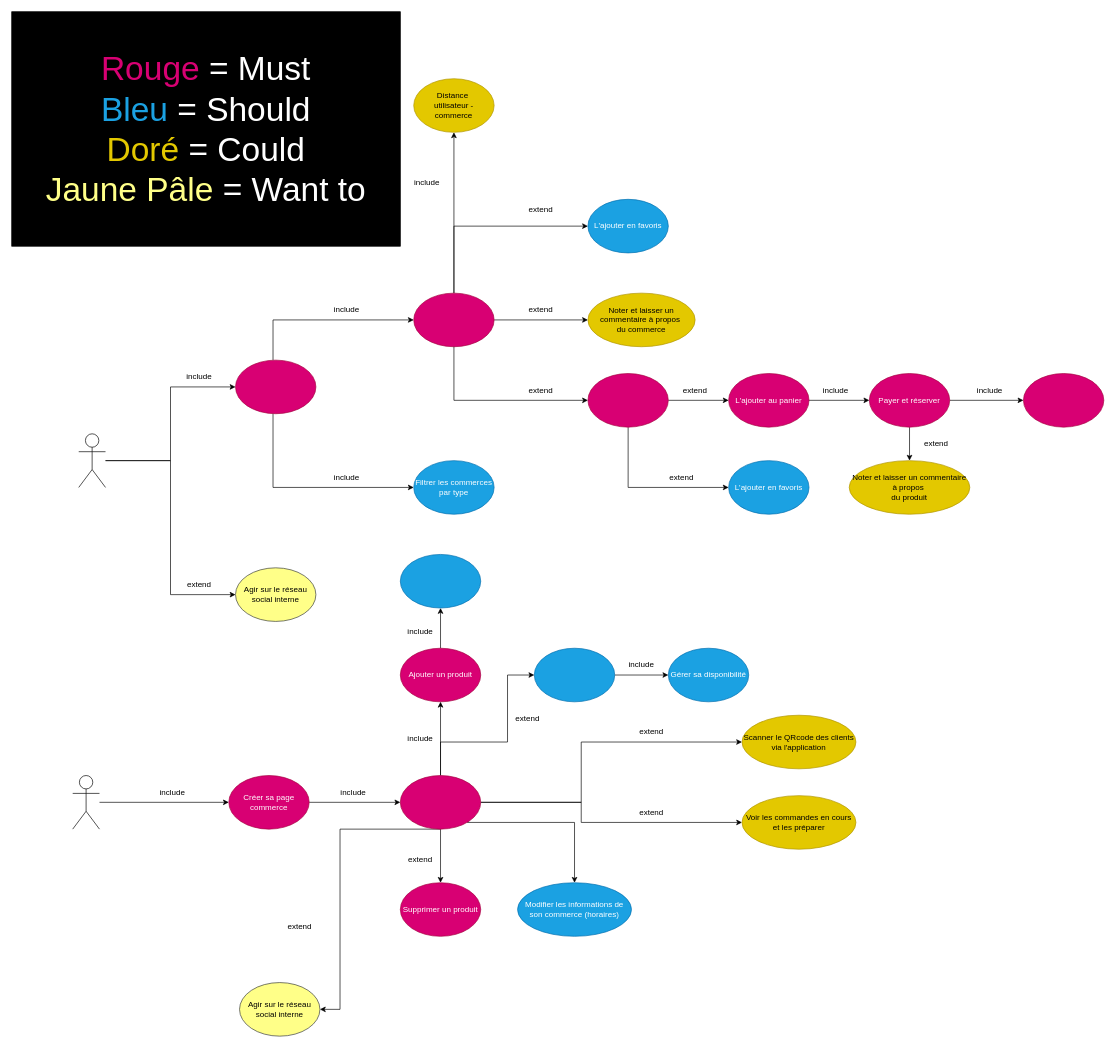
This 1116x1048 diagram has some shape labels left out. Each missing label, with the box of its shape:
Afficher un commerce: (413, 292, 494, 347)
Afficher un produit: (587, 373, 668, 427)
Ajouter une photo du produit: (400, 554, 481, 608)
Commerçant: (72, 775, 99, 829)
Consulter la carte: (235, 359, 316, 414)
Consulter sa page commerce: (400, 775, 481, 829)
Modifier un produit: (534, 648, 615, 702)
Récuperer sa commande en boutique: (1023, 373, 1104, 427)
Utilisateur: (78, 433, 106, 487)
